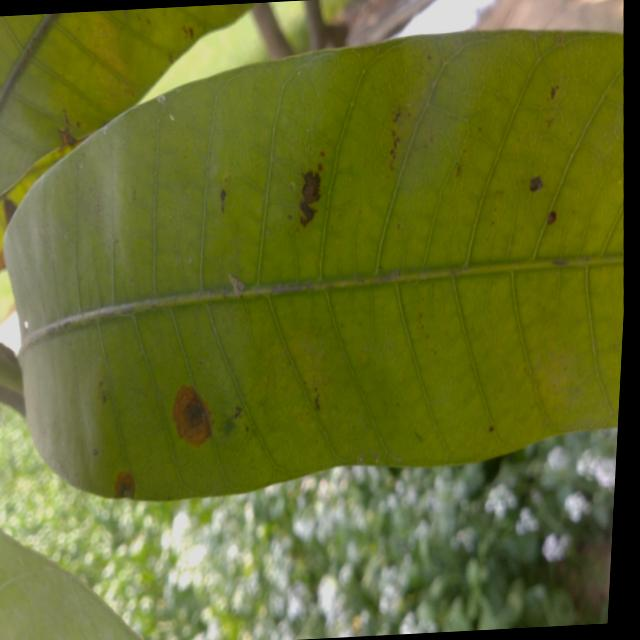Anthracnose: (285, 166, 331, 232)
